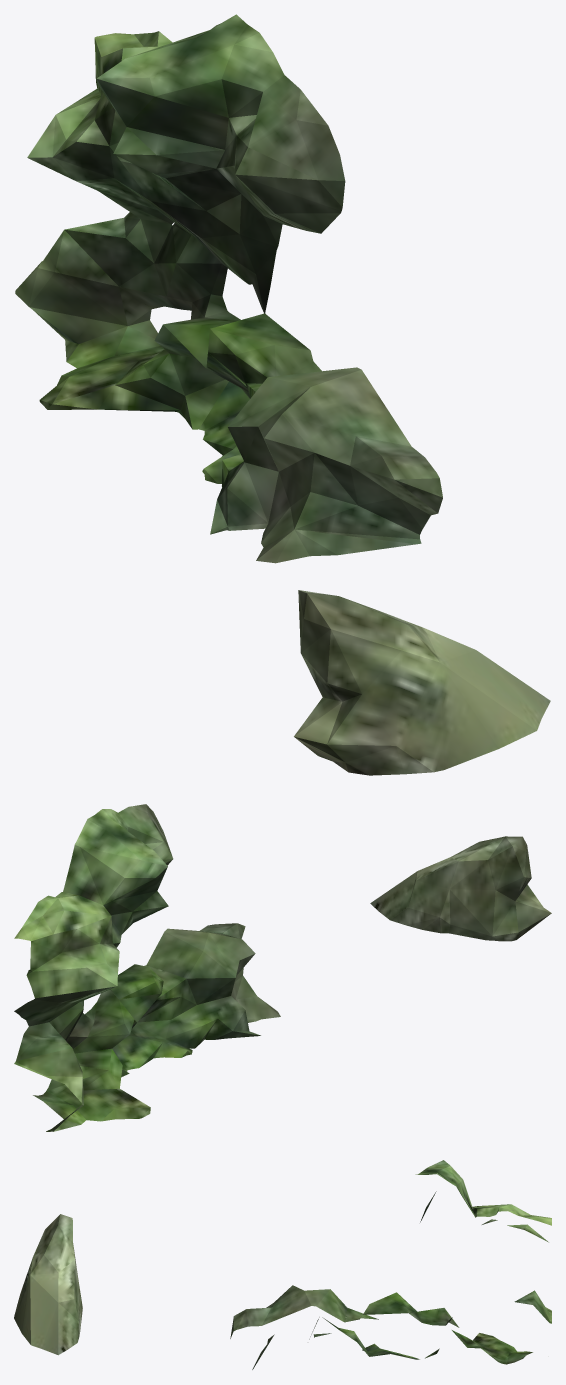
3 views of the same model, one above another, from view 1: azimuth 30°, elevation 25°; view 2: azimuth 150°, elevation 25°; view 3: azimuth 270°, elevation 25° (orthographic). The views are drawn at different scales.
Bounding box in the file's own units: 7.22 × 8.1 × 20.05.
Materials: 1 (1 with a texture image).
